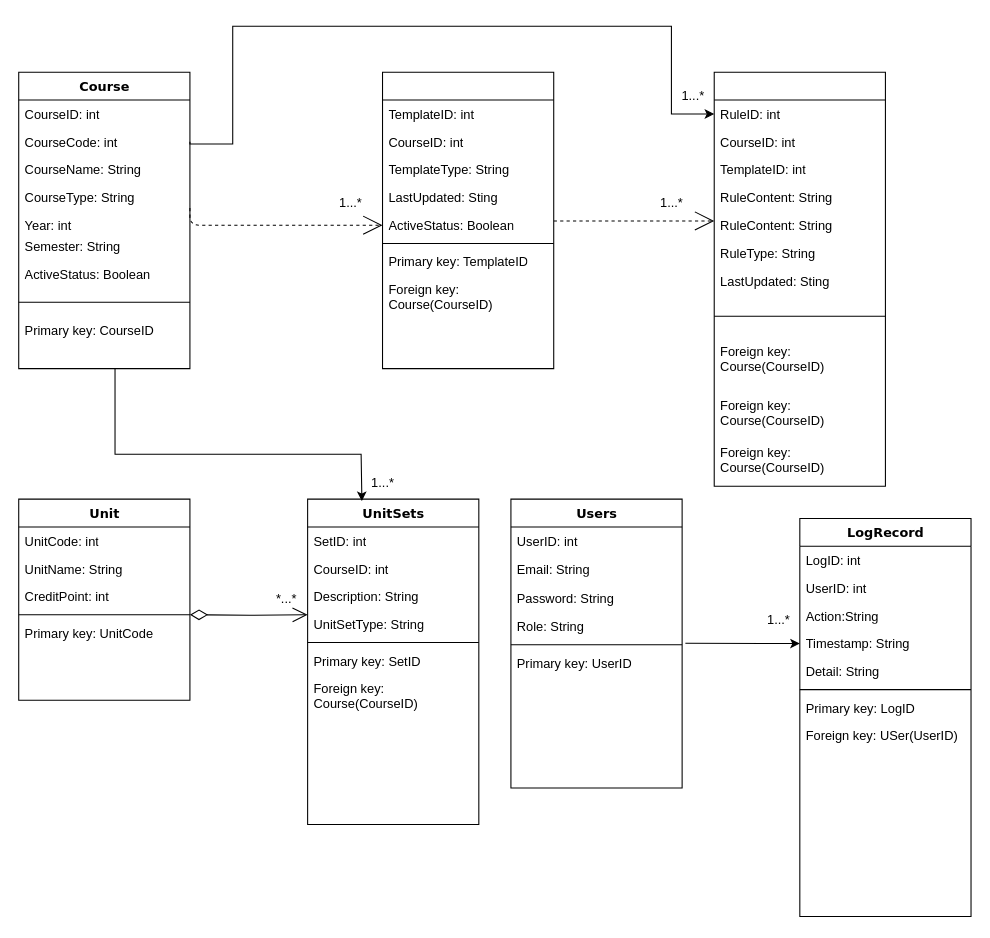
Image size: 990x938. Some labels were removed from this diagram. Here are the shapes that lost their labels. From the top down, the box of each, then its label:
(381, 71, 554, 369): CourseTemplate
(713, 71, 885, 486): Rules
